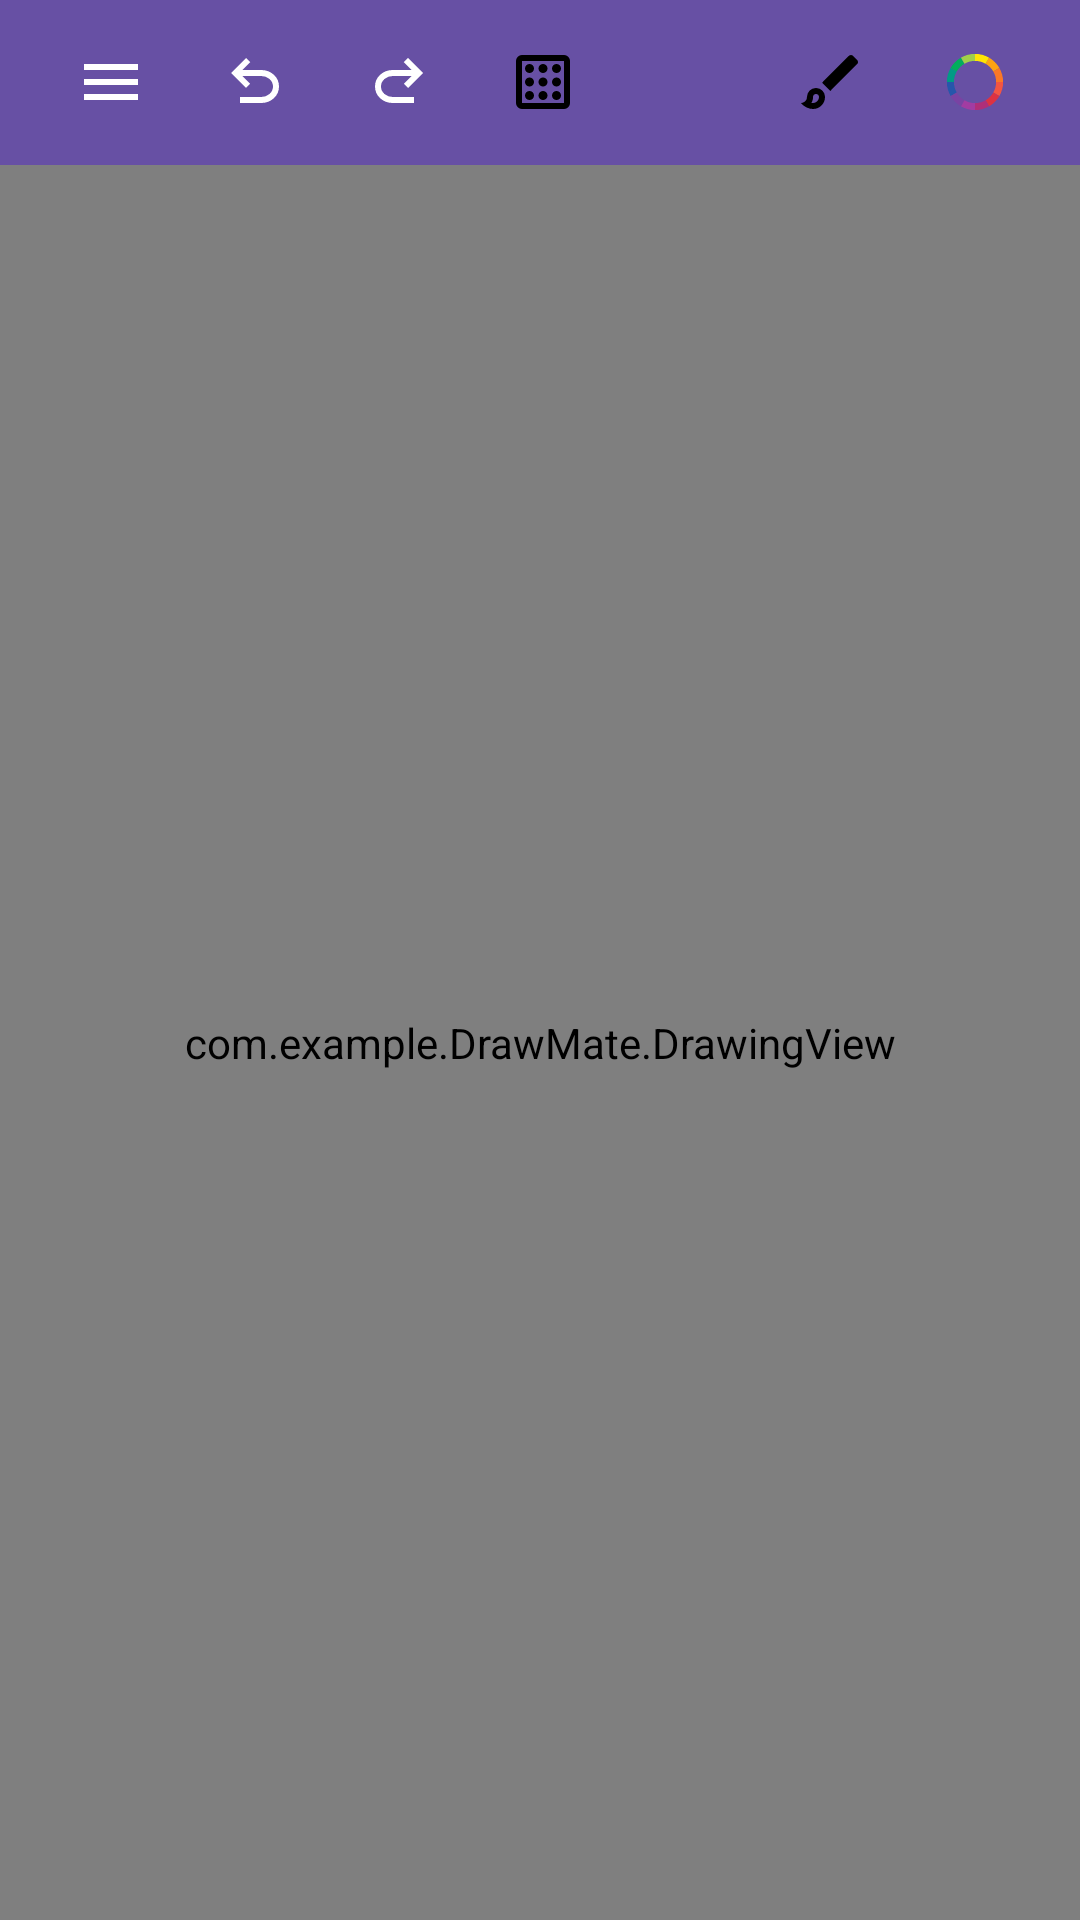

Named icons in this screenshot (1080x1920) and their bounding boxes, (x1, y1, x2, y2):
brush: (801, 55, 858, 109)
Color Picker: (947, 54, 1003, 110)
Menu: (84, 64, 138, 100)
Redo: (375, 58, 423, 103)
Undo: (231, 58, 279, 103)
